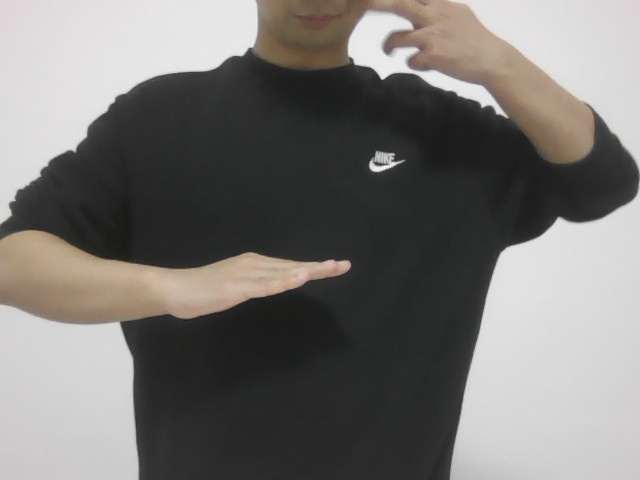safe: (160, 240, 364, 332)
